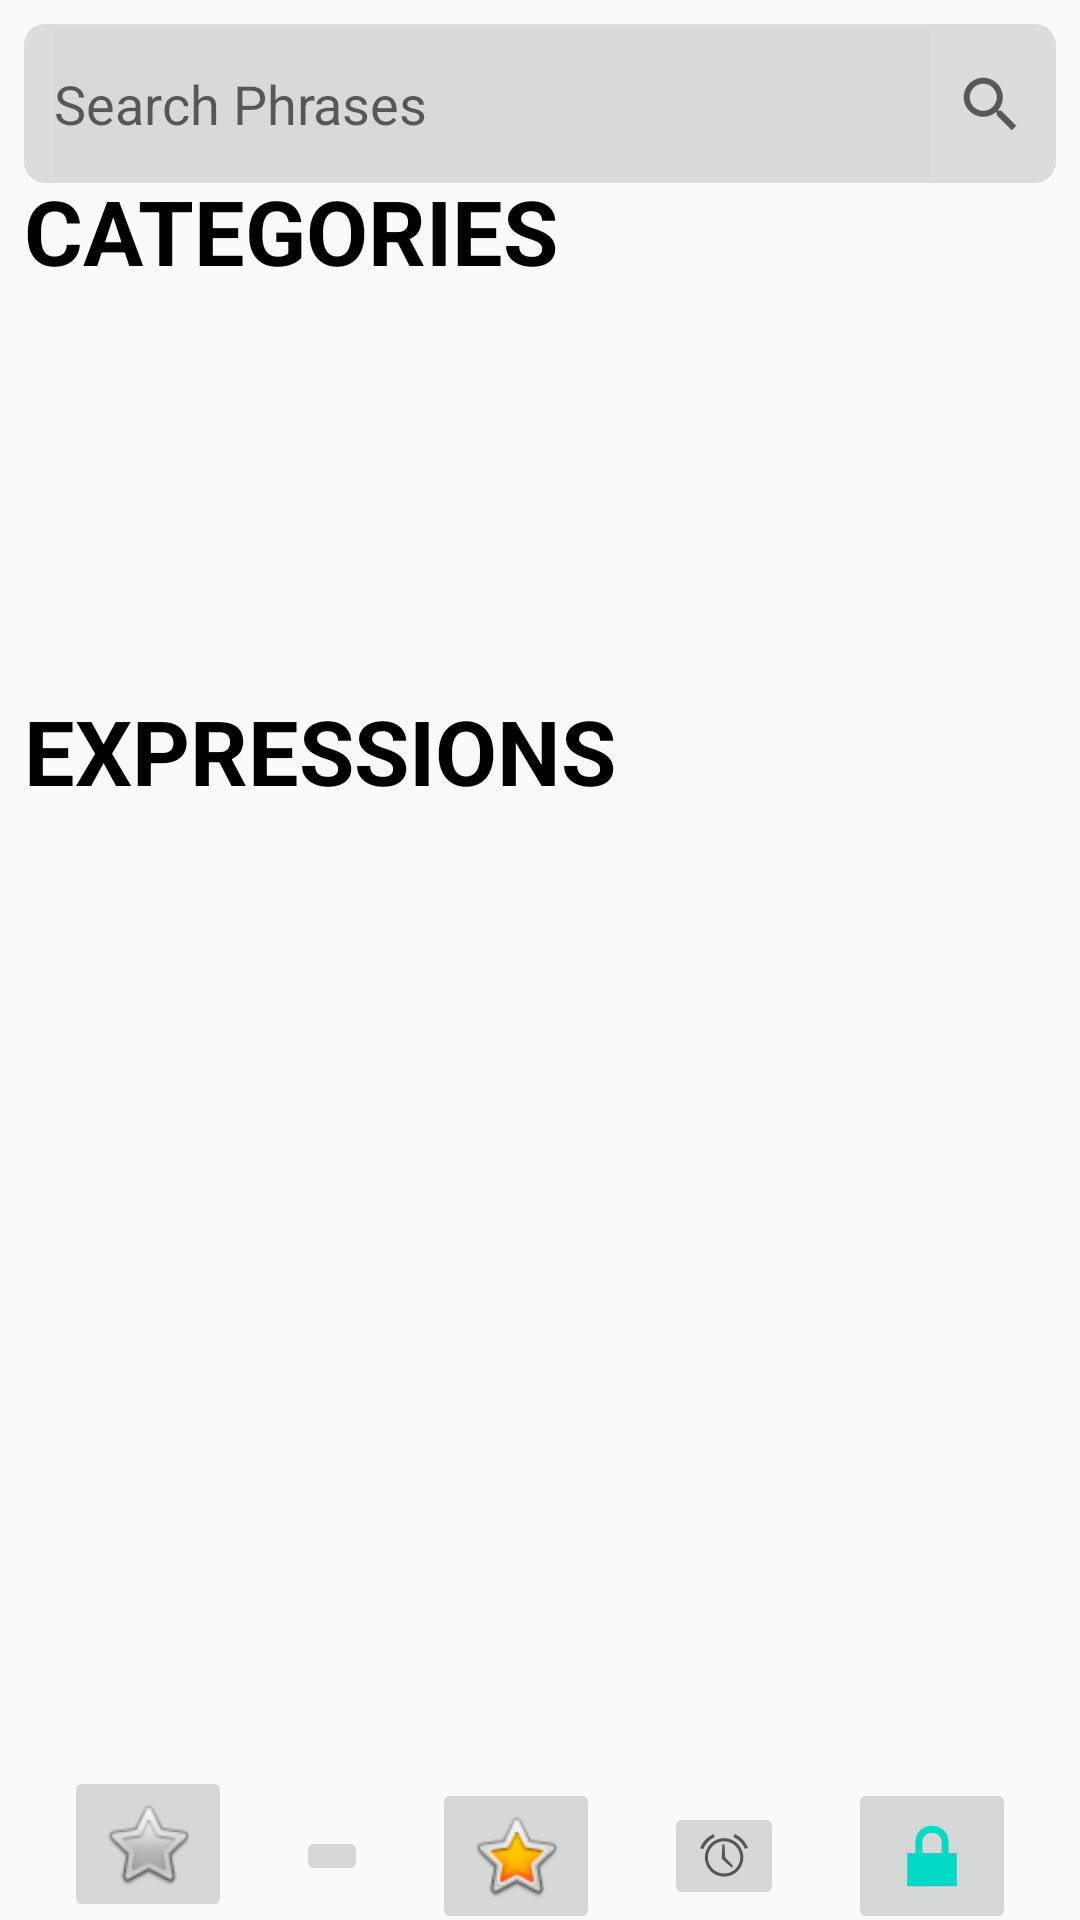

Icon click points for this 1080px x 1920px phone screenshot, format (x=x, y=y):
lock: (x=932, y=1856)
lock idle alarm: (x=724, y=1856)
star: (x=148, y=1844)
star on: (x=516, y=1856)
